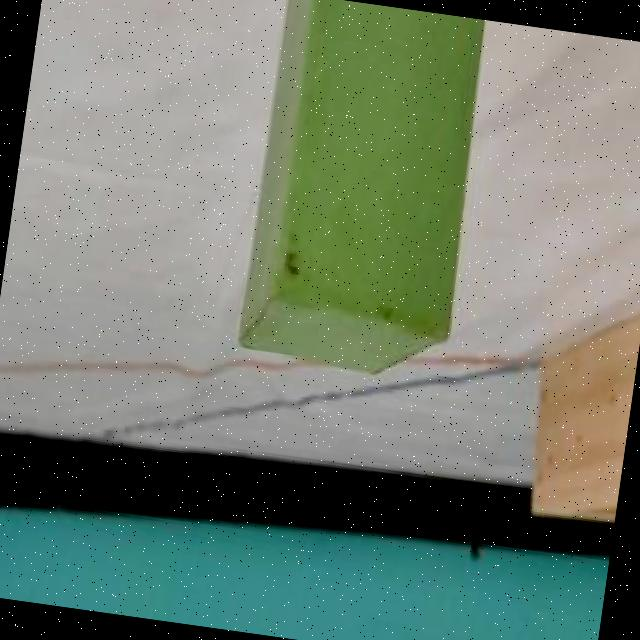greenbox: (223, 0, 498, 389)
